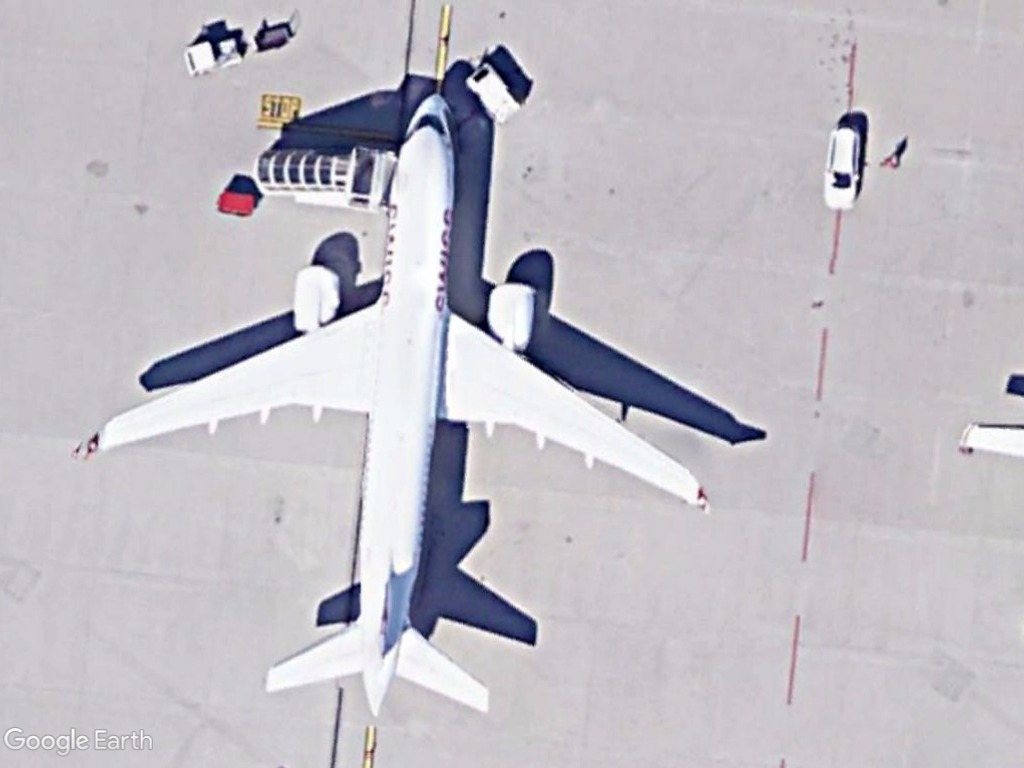airliner: (71, 88, 719, 728)
car: (821, 124, 866, 213)
